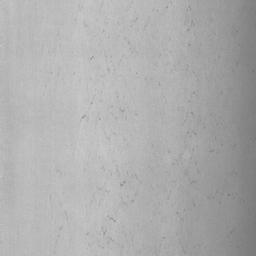Silk spot: (100, 226, 114, 244), (184, 14, 196, 27)
